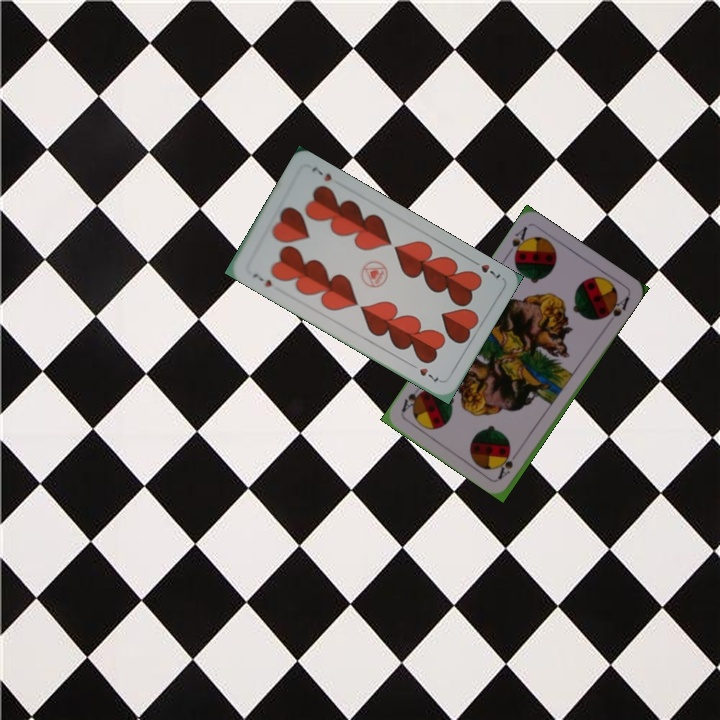H7: (467, 255, 503, 281), (248, 269, 274, 290)
SA: (502, 222, 531, 262), (494, 445, 522, 481)
